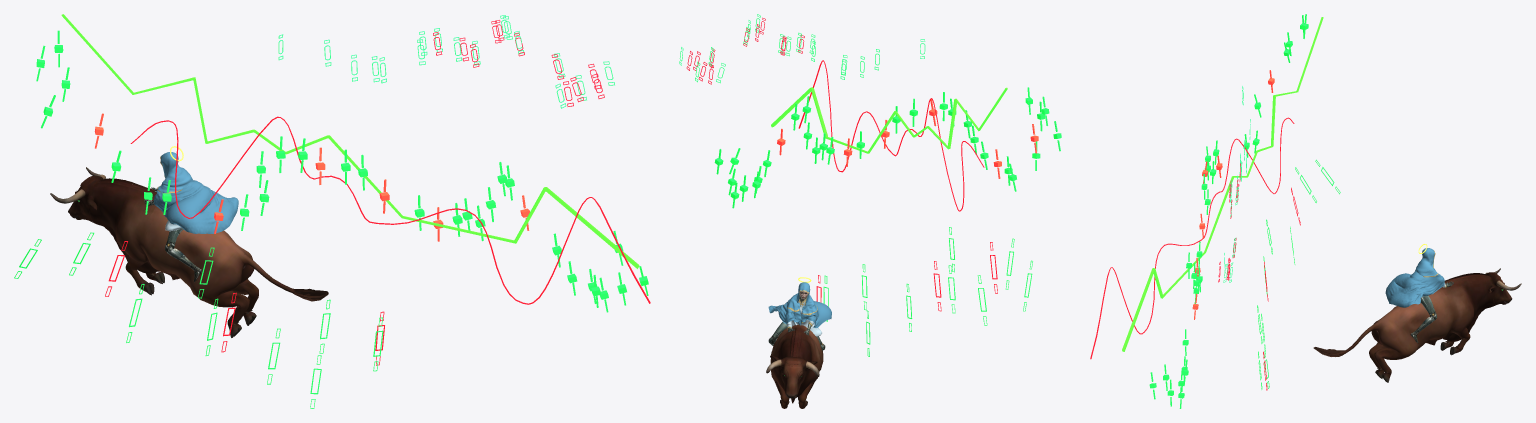
The model's file is ourlady_rider7.glb.
3 views of the same model, side by side, from view 1: azimuth 30°, elevation 25°; view 2: azimuth 150°, elevation 25°; view 3: azimuth 270°, elevation 25° (orthographic). The views are drawn at different scales.
Visible parts, largest first — view 1: Object_55.007, pose.001, Line_127, RoundLine_168, Object_55.015, lady.002, Object_55.014; view 2: Object_55.007, Line_127, pose.001, RoundLine_168, Object_55.014, lady.002; view 3: Object_55.007, pose.001, Line_127, RoundLine_168, Object_55.054, lady.002, Object_55.014.
Part boxes in pixels (bbox=[...]): Object_55.007: bbox=[88, 180, 254, 301]; pose.001: bbox=[154, 152, 238, 233]; Line_127: bbox=[61, 14, 639, 268]; RoundLine_168: bbox=[130, 116, 650, 304]; Object_55.015: bbox=[205, 290, 249, 337]; lady.002: bbox=[144, 187, 202, 282]; Object_55.014: bbox=[68, 176, 101, 224]; Object_55.007: bbox=[770, 324, 823, 401]; Line_127: bbox=[771, 87, 1007, 153]; pose.001: bbox=[768, 282, 831, 327]; RoundLine_168: bbox=[798, 60, 984, 211]; Object_55.014: bbox=[781, 357, 805, 398]; lady.002: bbox=[768, 291, 825, 354]; Object_55.007: bbox=[1371, 275, 1494, 356]; pose.001: bbox=[1385, 248, 1444, 307]; Line_127: bbox=[1122, 17, 1323, 351]; RoundLine_168: bbox=[1090, 117, 1294, 359]; Object_55.054: bbox=[1374, 348, 1407, 382]; lady.002: bbox=[1410, 281, 1453, 343]; Object_55.014: bbox=[1487, 272, 1512, 306].
Size of the model in its own units: 6.4 by 4.84 by 6.36.
18 materials, 2 textured.
